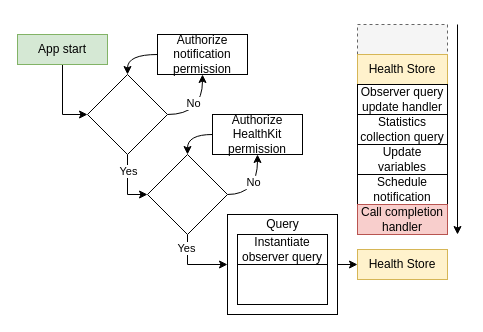
This 483x332 diagram has some shape labels left out. Here are the shapes that lost their labels. From the top down, the centre of each, then its label:
(x=402, y=39): New resting heart rate
(x=127, y=114): Notification permission
(x=187, y=194): HealthKit permission?
(x=282, y=284): Enable background delivery
